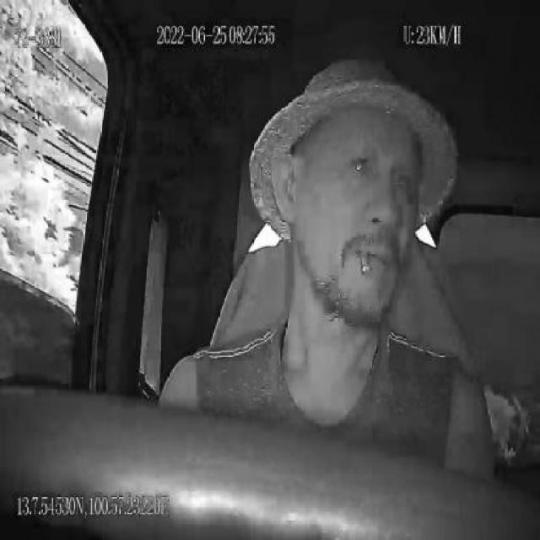smoking: (357, 245, 371, 276)
